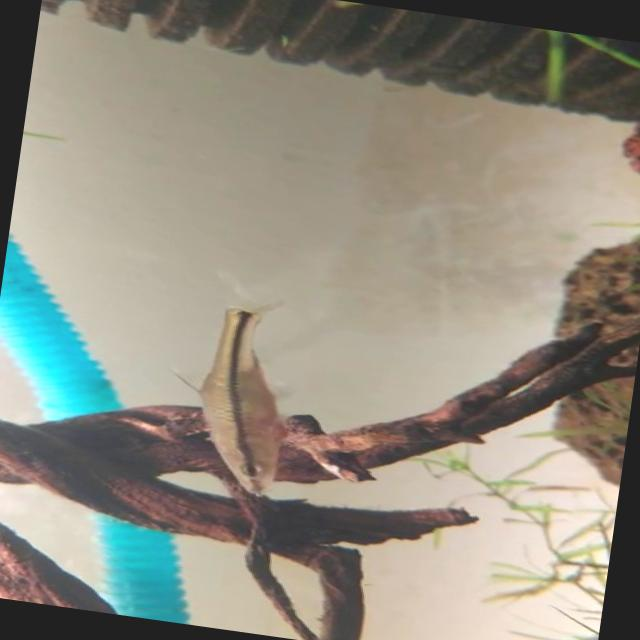Cakil Baligi: (158, 269, 314, 499)
